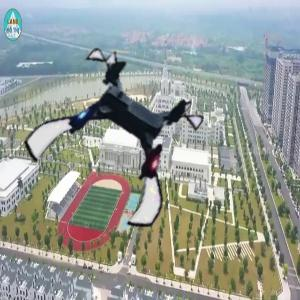drone: (42, 62, 200, 220)
